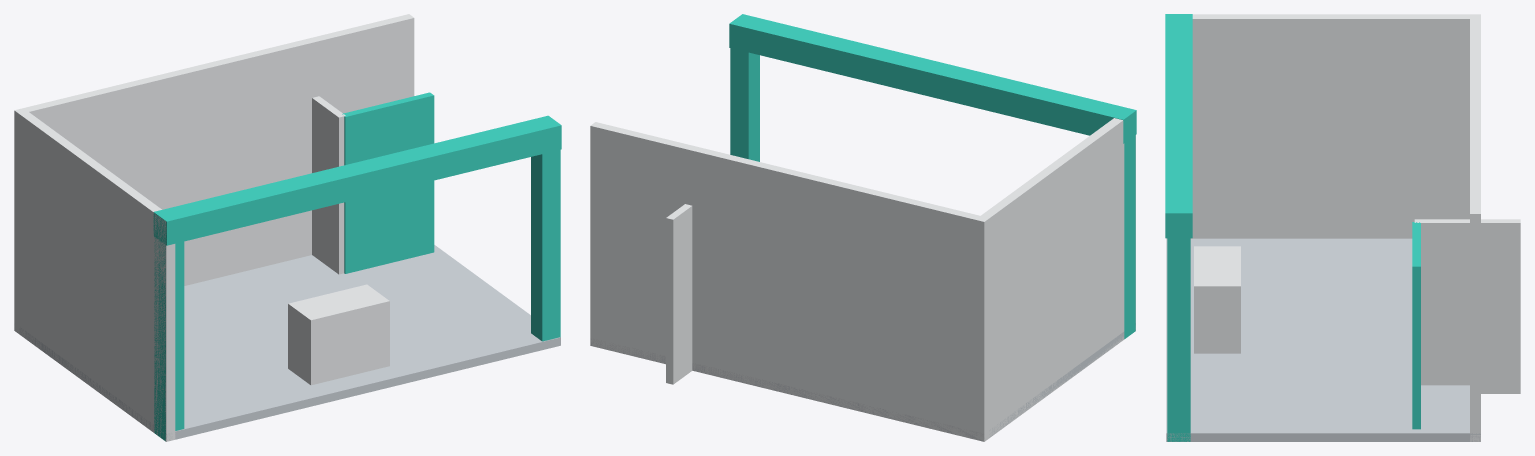
3 views of the same model, side by side, from view 1: azimuth 30°, elevation 25°; view 2: azimuth 150°, elevation 25°; view 3: azimuth 270°, elevation 25° (orthographic). The views are drawn at different scales.
Parts seen in each view (by area): view 1: Exhibition Booth Concept; view 2: Exhibition Booth Concept; view 3: Exhibition Booth Concept.
Boxes of the visible parts, x1,y1,x2,y2 form: Exhibition Booth Concept: (14,14,561,441); Exhibition Booth Concept: (590,14,1136,441); Exhibition Booth Concept: (1165,14,1520,441).
Size of the model in its own units: 6 by 3.2 by 4.52.
